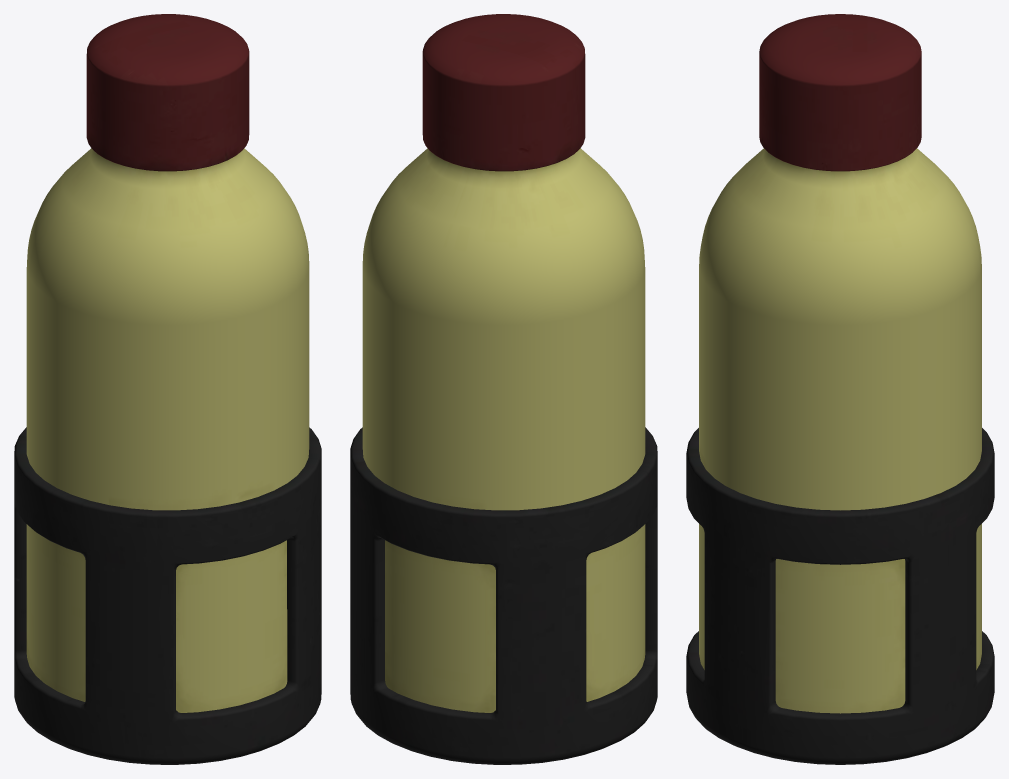
The model's file is bottle.glb.
3 renders of one model, left to right at view 1: azimuth 30°, elevation 25°; view 2: azimuth 150°, elevation 25°; view 3: azimuth 270°, elevation 25°, orthographic.
Parts seen in each view (by area): view 1: WaterBottle; view 2: WaterBottle; view 3: WaterBottle.
Part boxes in pixels (<box>): WaterBottle: <box>14,14,321,764</box>; WaterBottle: <box>350,14,657,764</box>; WaterBottle: <box>686,14,994,764</box>.
Bounding box in the file's own units: 0.1089 × 0.2604 × 0.1089.
Materials: 1 (1 with a texture image).
